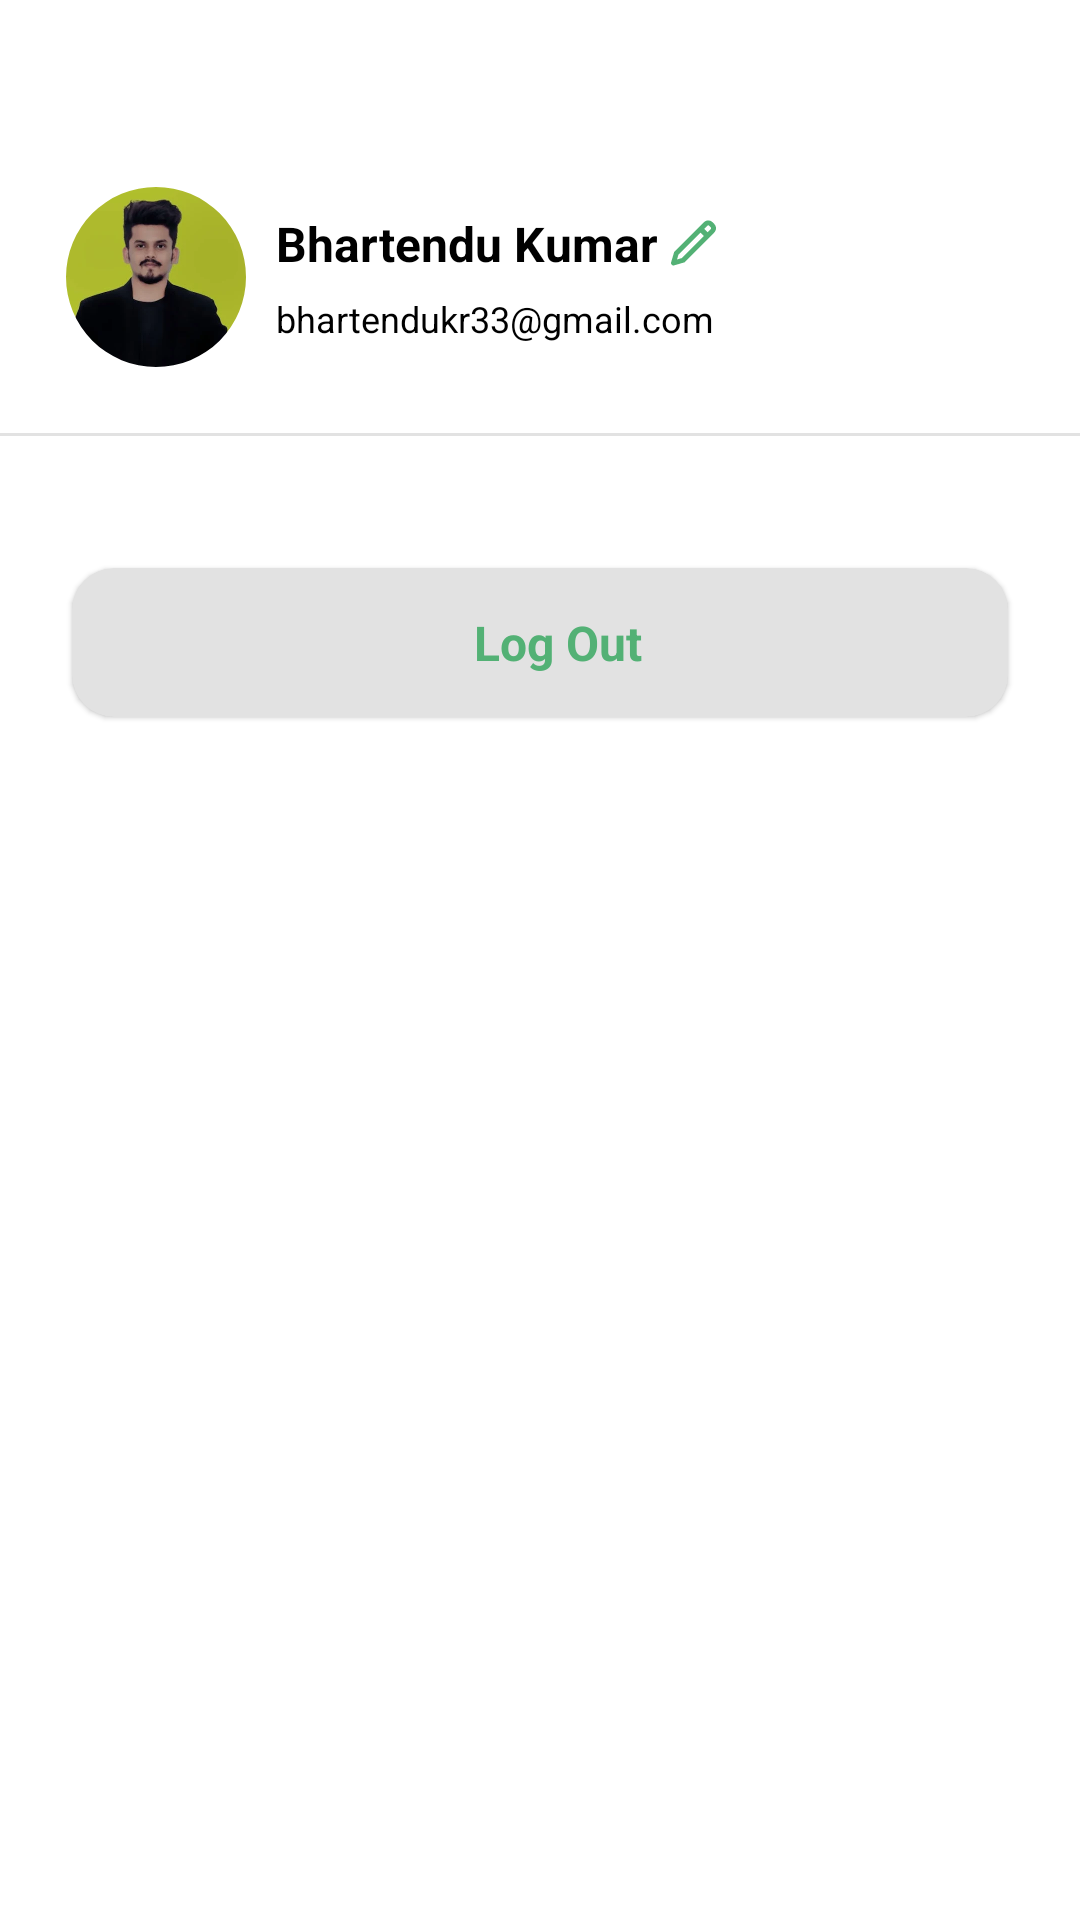

Icons on this 1080×1920 Android screen, each with its box as {"x1": x1, "y1": y1, "x2": x2, "y2": y2}:
pencil: {"x1": 671, "y1": 220, "x2": 716, "y2": 266}
